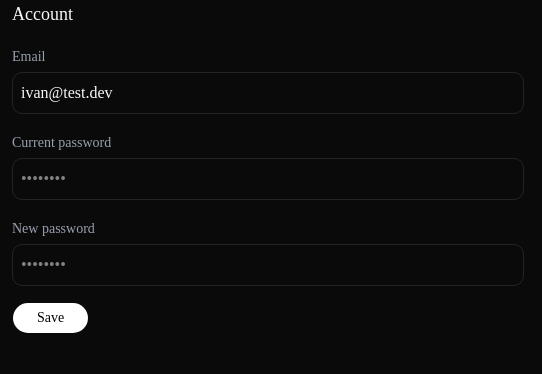
it: AccountSection › refuses to submit without the current password
Type "newsecret" into the password field labelled "New password" at (268, 265), box [12,244,524,286]
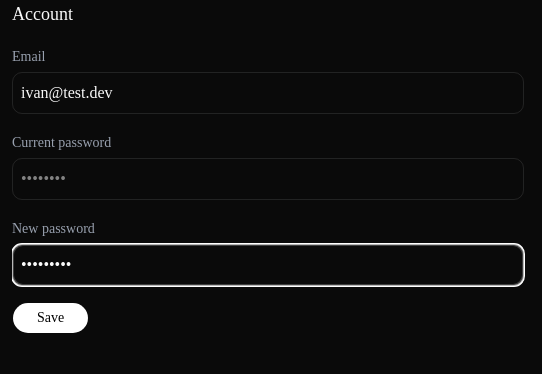
Click the button "Save" at (51, 318), box [12,302,89,334]
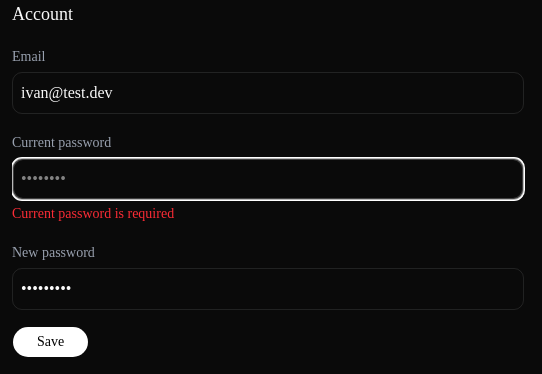
expect the text "Current password is required" is shown: met, box [12,206,174,221]
